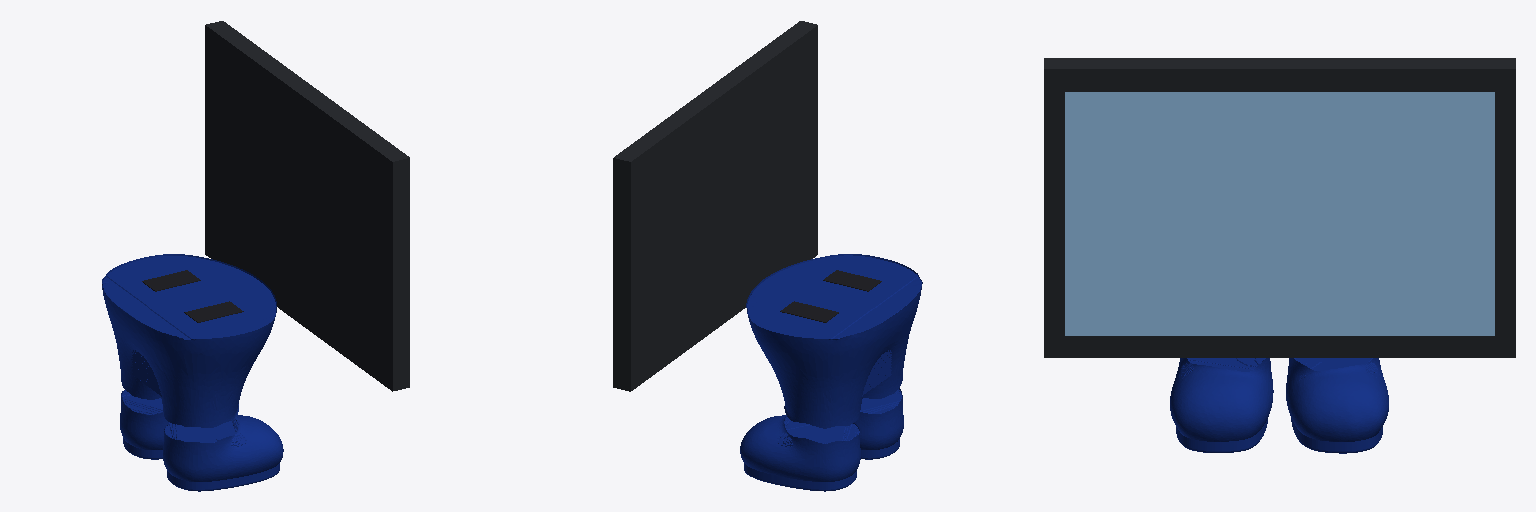
The robot description file, URDF, robot "haetburi":
<?xml version="1.0"?>
<!-- Haetburi biped (v14_sts3032_hidden) - generated by tools/build_model.py, do not edit by hand -->
<robot name="haetburi">
  <mujoco>
    <compiler meshdir="." balanceinertia="true" discardvisual="false" strippath="false" fusestatic="false"/>
  </mujoco>
  <material name="display"><color rgba="0.18 0.19 0.21 1"/></material>
  <material name="screen"><color rgba="0.62 0.80 0.95 1"/></material>
  <material name="shell"><color rgba="0.106 0.216 0.541 1"/></material>
  <material name="motor"><color rgba="0.15 0.15 0.17 1"/></material>
  <material name="foot"><color rgba="0.25 0.25 0.28 1"/></material>
  <link name="world"/>
  <joint name="floating_base" type="floating">
    <parent link="world"/><child link="pelvis"/>
    <origin xyz="0 0 0" rpy="0 0 0"/>
  </joint>
  <link name="pelvis">
    <inertial>
      <origin xyz="0.0100246 -4.65759e-05 0.0209075" rpy="0 0 0"/>
      <mass value="0.200802"/>
      <inertia ixx="6.22769e-05" ixy="-6.67885e-08" ixz="-5.87167e-06" iyy="4.57148e-05" iyz="1.88518e-08" izz="6.99462e-05"/>
    </inertial>
    <visual><origin xyz="0 0 0" rpy="0 0 0"/><geometry><mesh filename="meshes/pelvis.stl"/></geometry><material name="shell"/></visual>
    <visual><origin xyz="0.005502 0.0185822 0.02575" rpy="0 0 0"/><geometry><box size="0.023 0.012 0.0275"/></geometry><material name="motor"/></visual>
    <visual><origin xyz="0.005498 -0.0188115 0.02575" rpy="0 0 0"/><geometry><box size="0.023 0.012 0.0275"/></geometry><material name="motor"/></visual>
    <collision><origin xyz="0.0056677 -0.000111037 0.019825" rpy="0 0 0"/><geometry><box size="0.067953 0.0902375 0.03965"/></geometry></collision>
  </link>
  <link name="torso">
    <inertial>
      <origin xyz="0.0165597 7.85001e-05 0.0981736" rpy="0 0 0"/>
      <mass value="0.944195"/>
      <inertia ixx="0.00890167" ixy="-2.58865e-05" ixz="0.0016174" iyy="0.00895472" iyz="-2.49635e-05" izz="0.00487197"/>
    </inertial>
    <visual><origin xyz="0 0 0" rpy="0 0 0"/><geometry><mesh filename="meshes/torso.stl"/></geometry><material name="shell"/></visual>
    <visual><origin xyz="0.063767 0 0.0297616" rpy="0 0 0"/><geometry><box size="0.00897 0.16419 0.110994"/></geometry><material name="display"/></visual>
    <visual><origin xyz="0.068252 0 0.0297616" rpy="0 0 0"/><geometry><box size="0.0004 0.14976 0.0936"/></geometry><material name="screen"/></visual>
    <collision><origin xyz="-0.0296067 -1.37824e-06 0.0218426" rpy="0 0 0"/><geometry><box size="0.13897 0.0942318 0.0927983"/></geometry></collision>
    <collision><origin xyz="0.036153 0.072991 0.0440146" rpy="0 0 0"/><geometry><sphere radius="0.0527986"/></geometry></collision>
    <collision><origin xyz="0.0364029 -0.073103 0.0440146" rpy="0 0 0"/><geometry><sphere radius="0.0527479"/></geometry></collision>
    <collision><origin xyz="-0.00453781 0.000232068 0.0891062" rpy="0 0 0"/><geometry><sphere radius="0.0905601"/></geometry></collision>
    <collision><origin xyz="-0.00790729 -0.000106693 0.130807" rpy="0 0 0"/><geometry><sphere radius="0.104479"/></geometry></collision>
    <collision><origin xyz="-0.0120406 -0.000176093 0.172515" rpy="0 0 0"/><geometry><sphere radius="0.103269"/></geometry></collision>
    <collision><origin xyz="-0.00944579 0.000743875 0.21422" rpy="0 0 0"/><geometry><sphere radius="0.0897965"/></geometry></collision>
    <collision><origin xyz="-0.00558936 0.00588798 0.255952" rpy="0 0 0"/><geometry><sphere radius="0.0640042"/></geometry></collision>
    <collision><origin xyz="-0.0102433 -0.00194611 0.297647" rpy="0 0 0"/><geometry><sphere radius="0.0371435"/></geometry></collision>
    <collision><origin xyz="0.063767 0 0.0297616" rpy="0 0 0"/><geometry><box size="0.00897 0.16419 0.110994"/></geometry></collision>
  </link>
  <link name="leg_l">
    <inertial>
      <origin xyz="-0.000150879 -5.44186e-05 -0.0182186" rpy="0 0 0"/>
      <mass value="0.0247778"/>
      <inertia ixx="4.84898e-06" ixy="-1.75e-09" ixz="4.27334e-08" iyy="2.74403e-06" iyz="1.84899e-08" izz="4.46535e-06"/>
    </inertial>
    <visual><origin xyz="0 0 0" rpy="0 0 0"/><geometry><mesh filename="meshes/leg_l.stl"/></geometry><material name="shell"/></visual>
    <collision><origin xyz="-4.29907e-07 -5.92665e-06 -0.00464135" rpy="0 0 0"/><geometry><box size="0.0354468 0.0324752 0.00928271"/></geometry></collision>
  </link>
  <link name="foot_l">
    <inertial>
      <origin xyz="0.000412247 0.0042914 -0.00173449" rpy="0 0 0"/>
      <mass value="0.0580575"/>
      <inertia ixx="6.20998e-06" ixy="-2.53728e-07" ixz="-9.64777e-08" iyy="8.58072e-06" iyz="-5.69344e-07" izz="1.00877e-05"/>
    </inertial>
    <visual><origin xyz="0 0 0" rpy="0 0 0"/><geometry><mesh filename="meshes/foot_l.stl"/></geometry><material name="shell"/></visual>
    <visual><origin xyz="0 0.0055 3.36778e-19" rpy="0 0 0"/><geometry><box size="0.0275 0.023 0.012"/></geometry><material name="motor"/></visual>
    <collision><origin xyz="0 0 0" rpy="0 0 0"/><geometry><mesh filename="meshes/foot_l.stl"/></geometry></collision>
  </link>
  <link name="leg_r">
    <inertial>
      <origin xyz="-0.000112999 6.2792e-05 -0.018142" rpy="0 0 0"/>
      <mass value="0.0248263"/>
      <inertia ixx="4.87541e-06" ixy="-6.2391e-09" ixz="3.31642e-08" iyy="2.7538e-06" iyz="-2.1333e-08" izz="4.47806e-06"/>
    </inertial>
    <visual><origin xyz="0 0 0" rpy="0 0 0"/><geometry><mesh filename="meshes/leg_r.stl"/></geometry><material name="shell"/></visual>
    <collision><origin xyz="1.02667e-06 9.3956e-06 -0.00458184" rpy="0 0 0"/><geometry><box size="0.0354181 0.0325376 0.00916367"/></geometry></collision>
  </link>
  <link name="foot_r">
    <inertial>
      <origin xyz="0.000258929 -0.00408988 -0.00175394" rpy="0 0 0"/>
      <mass value="0.0579856"/>
      <inertia ixx="6.13895e-06" ixy="2.42557e-07" ixz="-5.96493e-08" iyy="8.53331e-06" iyz="5.35183e-07" izz="1.00092e-05"/>
    </inertial>
    <visual><origin xyz="0 0 0" rpy="0 0 0"/><geometry><mesh filename="meshes/foot_r.stl"/></geometry><material name="shell"/></visual>
    <visual><origin xyz="0 -0.0055 3.36778e-19" rpy="0 0 0"/><geometry><box size="0.0275 0.023 0.012"/></geometry><material name="motor"/></visual>
    <collision><origin xyz="0 0 0" rpy="0 0 0"/><geometry><mesh filename="meshes/foot_r.stl"/></geometry></collision>
  </link>
  <joint name="waist_fixed" type="fixed">
    <parent link="pelvis"/><child link="torso"/>
    <origin xyz="0 0 0.03965" rpy="0 0 0"/>
  </joint>
  <joint name="hip_yaw_l" type="revolute">
    <parent link="pelvis"/><child link="leg_l"/>
    <origin xyz="2.00147e-06 0.0185822 0" rpy="0 0 0"/>
    <axis xyz="0 0 1"/>
    <limit lower="-0.523599" upper="0.523599" effort="0.44" velocity="11.6"/>
    <dynamics damping="0.03142857142857144" friction="0.012571428571428574"/>
  </joint>
  <joint name="hip_yaw_r" type="revolute">
    <parent link="pelvis"/><child link="leg_r"/>
    <origin xyz="-2.00147e-06 -0.0188115 0" rpy="0 0 0"/>
    <axis xyz="0 0 1"/>
    <limit lower="-0.523599" upper="0.523599" effort="0.44" velocity="11.6"/>
    <dynamics damping="0.03142857142857144" friction="0.012571428571428574"/>
  </joint>
  <joint name="ankle_roll_l" type="revolute">
    <parent link="leg_l"/><child link="foot_l"/>
    <origin xyz="0.00827484 -0.00479212 -0.0310125" rpy="0 0 0"/>
    <axis xyz="1 0 0"/>
    <limit lower="-0.261799" upper="0.261799" effort="0.44" velocity="11.6"/>
    <dynamics damping="0.03142857142857144" friction="0.012571428571428574"/>
  </joint>
  <joint name="ankle_roll_r" type="revolute">
    <parent link="leg_r"/><child link="foot_r"/>
    <origin xyz="0.0086908 0.00413156 -0.0310125" rpy="0 0 0"/>
    <axis xyz="1 0 0"/>
    <limit lower="-0.261799" upper="0.261799" effort="0.44" velocity="11.6"/>
    <dynamics damping="0.03142857142857144" friction="0.012571428571428574"/>
  </joint>
</robot>

--- Render facts (derived) ---
The picture shows the robot from 3 angles, left to right: view 1: azimuth 30°, elevation 25°; view 2: azimuth 150°, elevation 25°; view 3: azimuth 270°, elevation 25°; orthographic projection.
Robot: haetburi — 7 links, 6 joints (4 revolute, 1 fixed, 1 floating); root link world; default pose: every joint at zero.
Visible links, largest first — view 1: torso, pelvis, foot_r, foot_l, leg_r, leg_l; view 2: torso, pelvis, foot_l, foot_r, leg_l, leg_r; view 3: torso, foot_r, foot_l.
Boxes of the visible links, x1=… form: torso: x1=205, y1=21, x2=409, y2=391; pelvis: x1=102, y1=254, x2=276, y2=412; foot_r: x1=163, y1=415, x2=283, y2=491; foot_l: x1=120, y1=390, x2=168, y2=459; leg_r: x1=161, y1=398, x2=239, y2=427; leg_l: x1=120, y1=367, x2=160, y2=399; torso: x1=613, y1=21, x2=817, y2=391; pelvis: x1=746, y1=254, x2=922, y2=412; foot_l: x1=740, y1=415, x2=860, y2=491; foot_r: x1=854, y1=388, x2=903, y2=459; leg_l: x1=784, y1=398, x2=862, y2=428; leg_r: x1=863, y1=367, x2=903, y2=398; torso: x1=1044, y1=58, x2=1515, y2=357; foot_r: x1=1170, y1=358, x2=1273, y2=452; foot_l: x1=1286, y1=358, x2=1388, y2=453.
Size in the robot's own frame: 0.0968 by 0.1642 by 0.1641 metres.
5 mesh visuals loaded from 6 distinct referenced files (5 binary STL); not drawn: 1 (reference not matched to a file when rendering).
